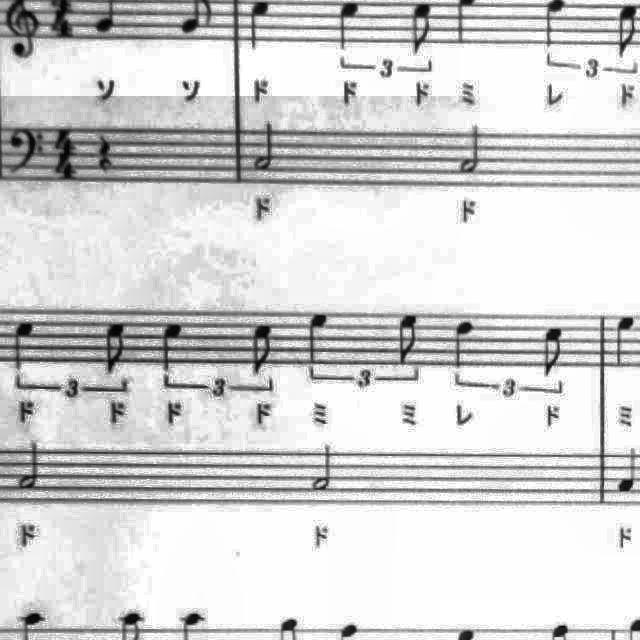Bass-clef: (0, 123, 48, 181)
Eighth-note: (389, 308, 427, 372), (96, 316, 134, 380), (536, 321, 572, 382), (244, 317, 280, 378)
Half-note: (452, 118, 488, 178), (14, 437, 51, 495), (308, 437, 344, 495), (250, 116, 284, 176)
Quarter-note: (300, 307, 336, 375), (6, 314, 42, 376), (446, 314, 482, 374), (156, 316, 190, 378), (612, 308, 640, 372), (612, 444, 640, 501)
Quarter-rest: (92, 129, 120, 179)
